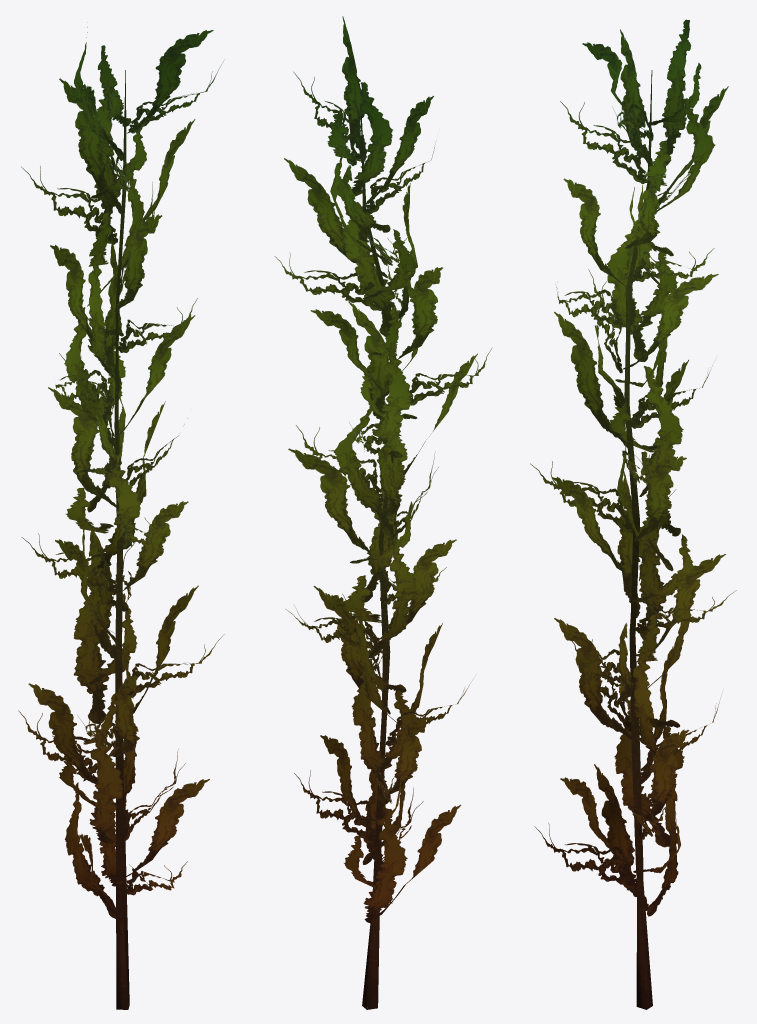
The model's file is SeaWeed06_LOD0_newsmall.glb.
The picture shows the model from 3 angles, left to right: view 1: azimuth 30°, elevation 25°; view 2: azimuth 150°, elevation 25°; view 3: azimuth 270°, elevation 25°; orthographic projection. The views are drawn at different scales.
Visible parts, largest first — view 1: SeaWeed06_high; view 2: SeaWeed06_high; view 3: SeaWeed06_high.
Boxes of the visible parts, x1,y1,x2,y2 form: SeaWeed06_high: [18, 27, 224, 1009]; SeaWeed06_high: [274, 16, 492, 1009]; SeaWeed06_high: [530, 19, 736, 1009].
Bounding box in the file's own units: 1.4 × 6.53 × 1.3.
Materials: 1 (1 with a texture image).
